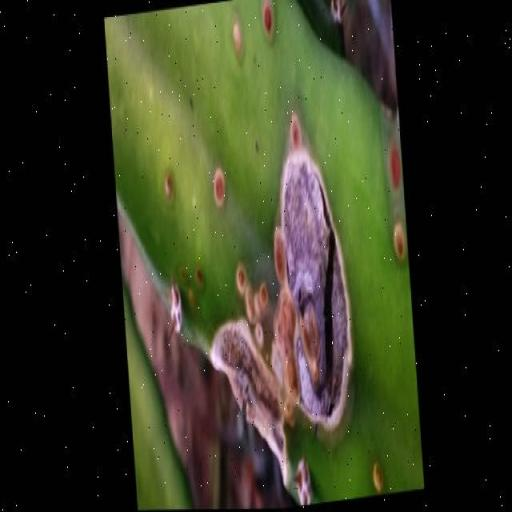stemcanker: (346, 178, 378, 211), (96, 458, 124, 488), (263, 54, 293, 82), (211, 118, 231, 146), (256, 107, 270, 127)
